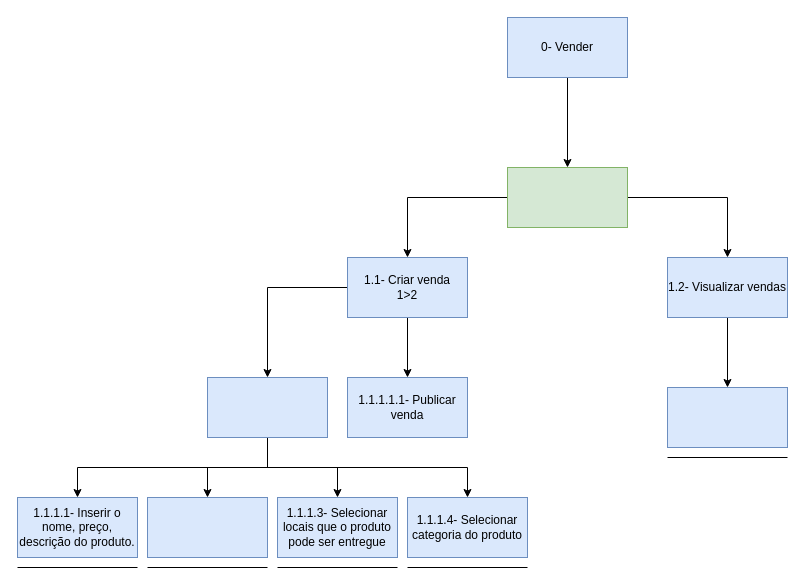
Image size: 806x586. Some labels were removed from this diagram. Each missing label, with the centre of its shape:
1- Fluxo de login: pixel 567 197
1.1.1- Inserir dados do produto 1+2: pixel 267 407
1.1.1.2- Selecionar categoria do produto: pixel 207 527
1.2.1- Atender comprador: pixel 727 417
